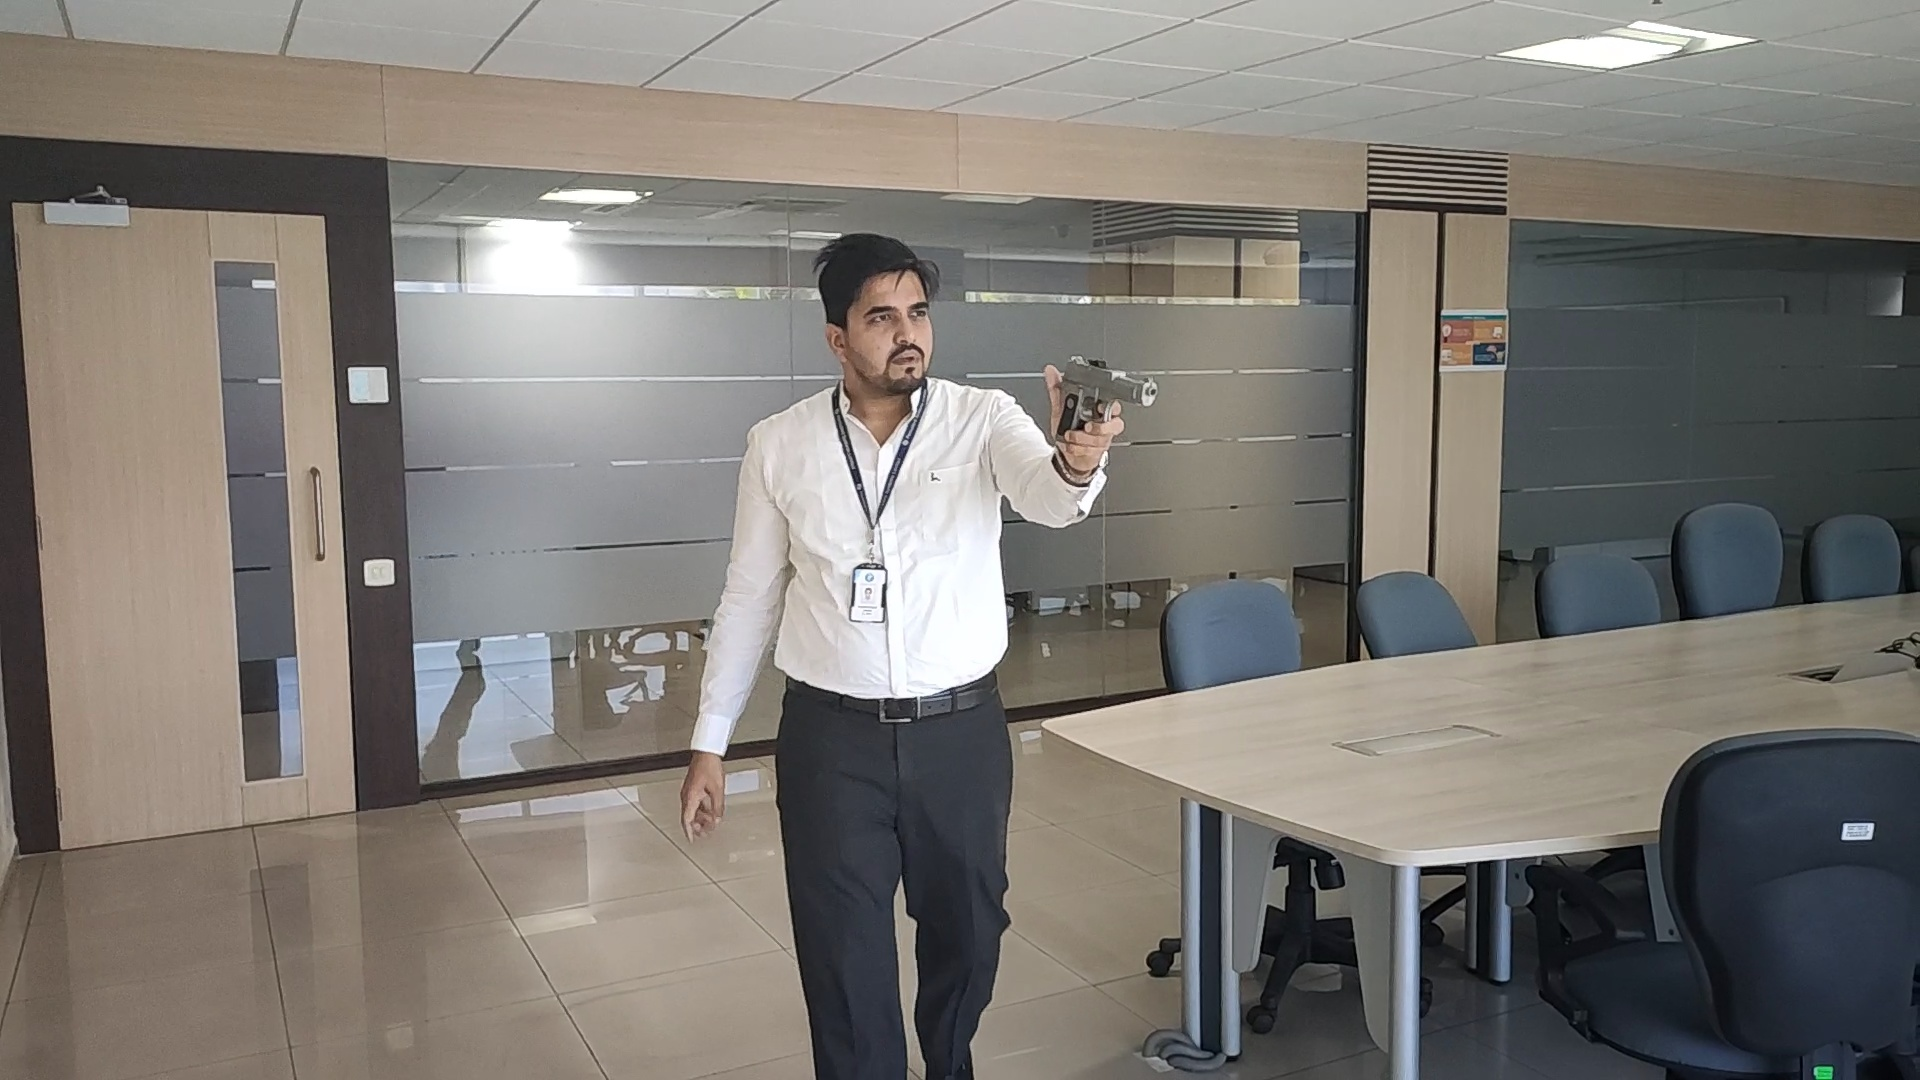gun: (1058, 355, 1162, 431)
